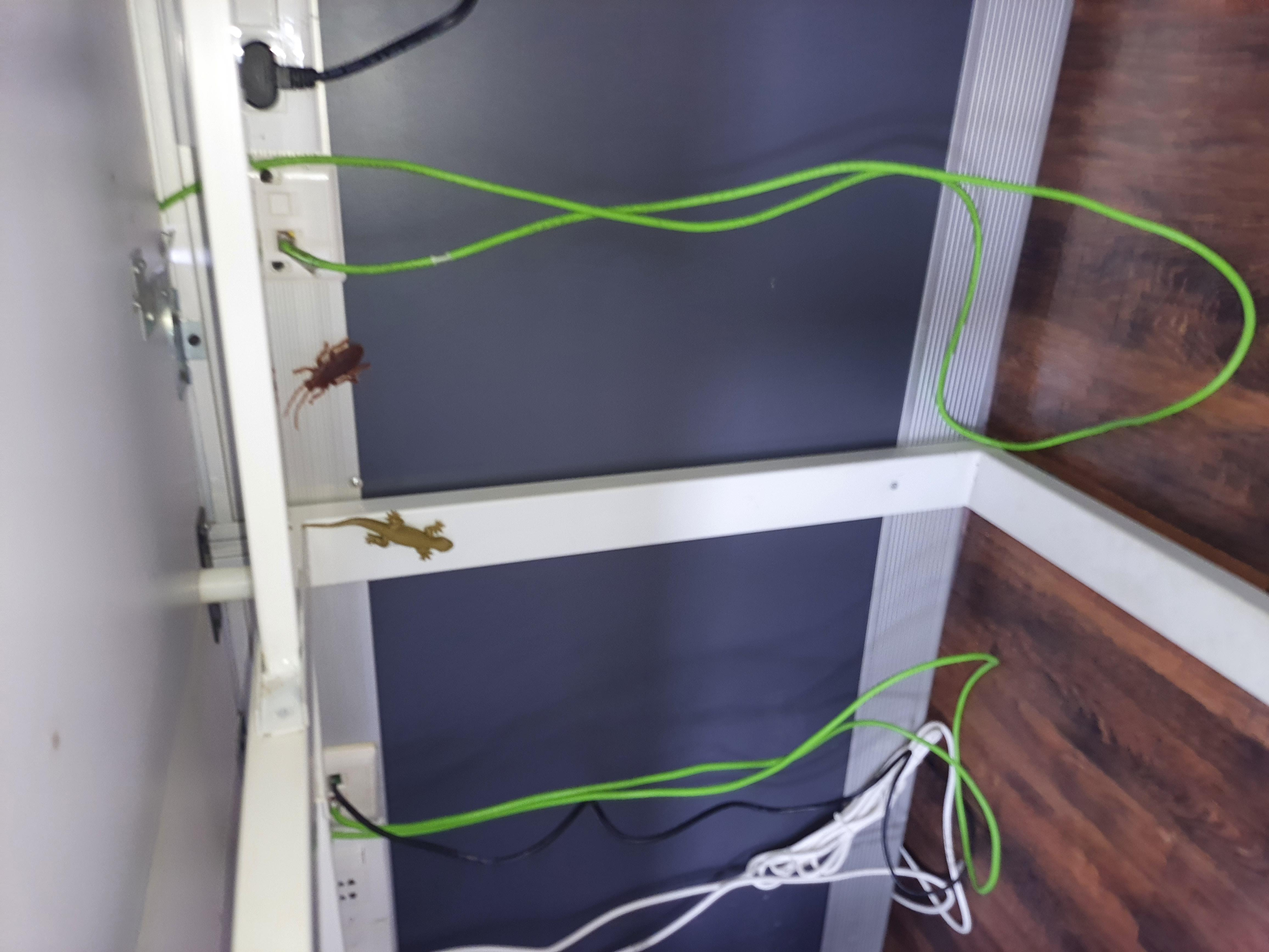cockroach: (696, 210, 838, 280)
lizard: (517, 225, 609, 341)
